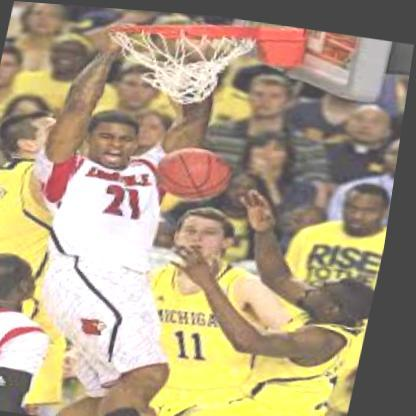basketball: (154, 137, 241, 200)
rim: (100, 6, 260, 49)
